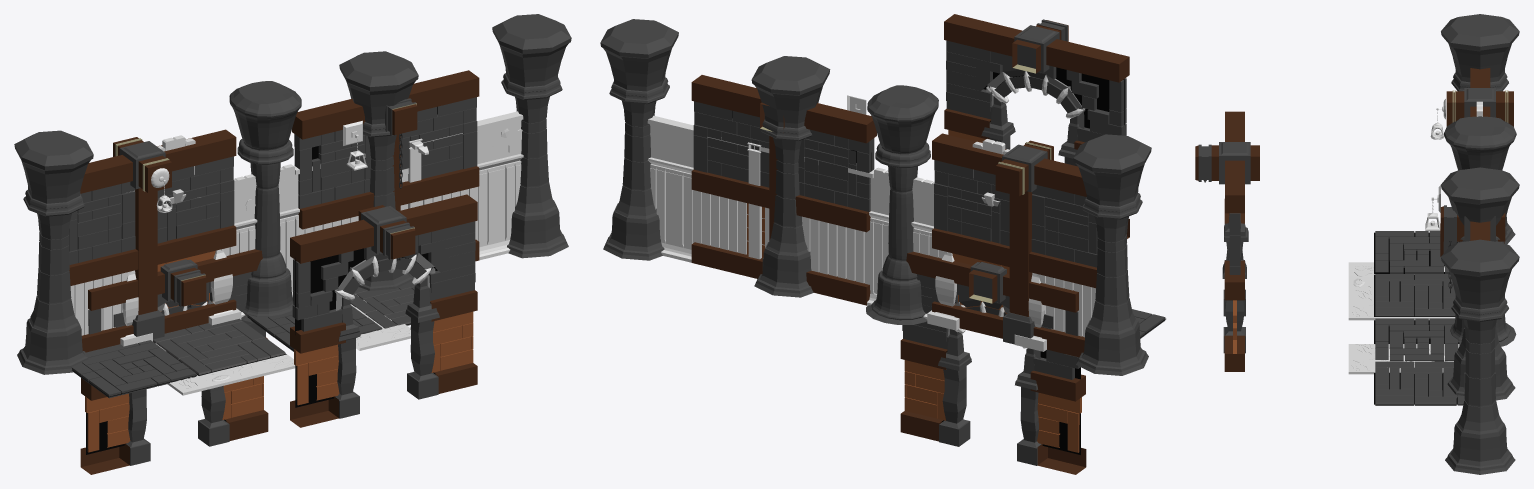
Rendered from pav._dungeon_corretto.fbx.
3 views of the same model, side by side, from view 1: azimuth 30°, elevation 25°; view 2: azimuth 150°, elevation 25°; view 3: azimuth 270°, elevation 25° (orthographic). The views are drawn at different scales.
Parts seen in each view (by area): view 1: Cube.009, Cube, Cube.003, Cube.008, Cube.012, Cube.017, Cube.002, Cube.010, Cube.011, Cube.001, Cube.007, Cube.005 (+5 smaller); view 2: Cube, Cube.003, Cube.008, Cube.009, Cube.010, Cube.012, Cube.017, Cube.001, Cube.002, Cube.011; view 3: Cube.017, Cube.009, Cube.001, Cube.012, Cube.002, Cube.006, Cube.004, Cube.007, Cube.005, Cube, Cube.003, Cube.013 (+2 smaller).
Boxes of the visible parts, x1,y1,x2,y2 form: Cube.009: (290, 194, 477, 427); Cube: (68, 129, 236, 352); Cube.003: (292, 70, 479, 261); Cube.008: (80, 249, 268, 474); Cube.012: (14, 130, 93, 374); Cube.017: (492, 14, 571, 258); Cube.002: (229, 81, 301, 322); Cube.010: (294, 111, 523, 260); Cube.011: (70, 135, 296, 346); Cube.001: (339, 51, 418, 290); Cube.007: (153, 318, 286, 375); Cube.005: (71, 340, 196, 398); Cube: (932, 133, 1097, 357); Cube.003: (691, 75, 876, 305); Cube.008: (900, 251, 1086, 474); Cube.009: (944, 14, 1129, 238); Cube.010: (647, 115, 874, 305); Cube.012: (1073, 134, 1151, 375); Cube.017: (600, 19, 678, 260); Cube.001: (751, 56, 830, 297); Cube.002: (866, 85, 938, 324); Cube.011: (870, 139, 1095, 351); Cube.017: (1441, 239, 1519, 474); Cube.009: (1195, 111, 1259, 371); Cube.001: (1441, 167, 1519, 400); Cube.012: (1441, 14, 1519, 244); Cube.002: (1443, 116, 1516, 346); Cube.006: (1374, 361, 1464, 405); Cube.004: (1374, 318, 1461, 361); Cube.007: (1374, 274, 1455, 316); Cube.005: (1374, 231, 1449, 274); Cube: (1446, 68, 1513, 126); Cube.003: (1440, 205, 1505, 389); Cube.013: (1348, 262, 1455, 320).
Size of the model in its own units: 1843 by 1088 by 986.
